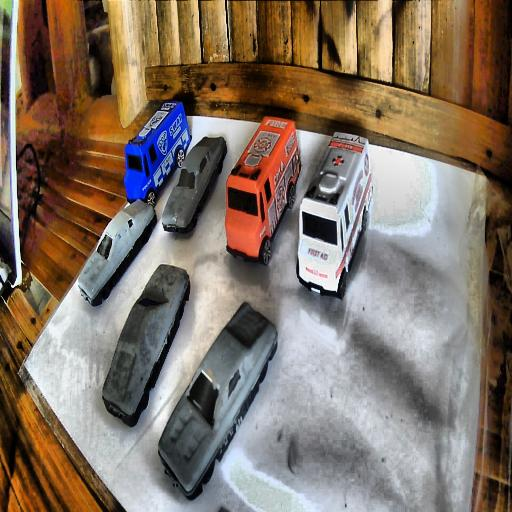ambulance: (294, 130, 372, 300)
fire_truck: (222, 116, 295, 266)
normal_car: (158, 302, 276, 500), (102, 265, 192, 428), (78, 197, 156, 308), (162, 134, 226, 236)
police car: (124, 99, 192, 207)
